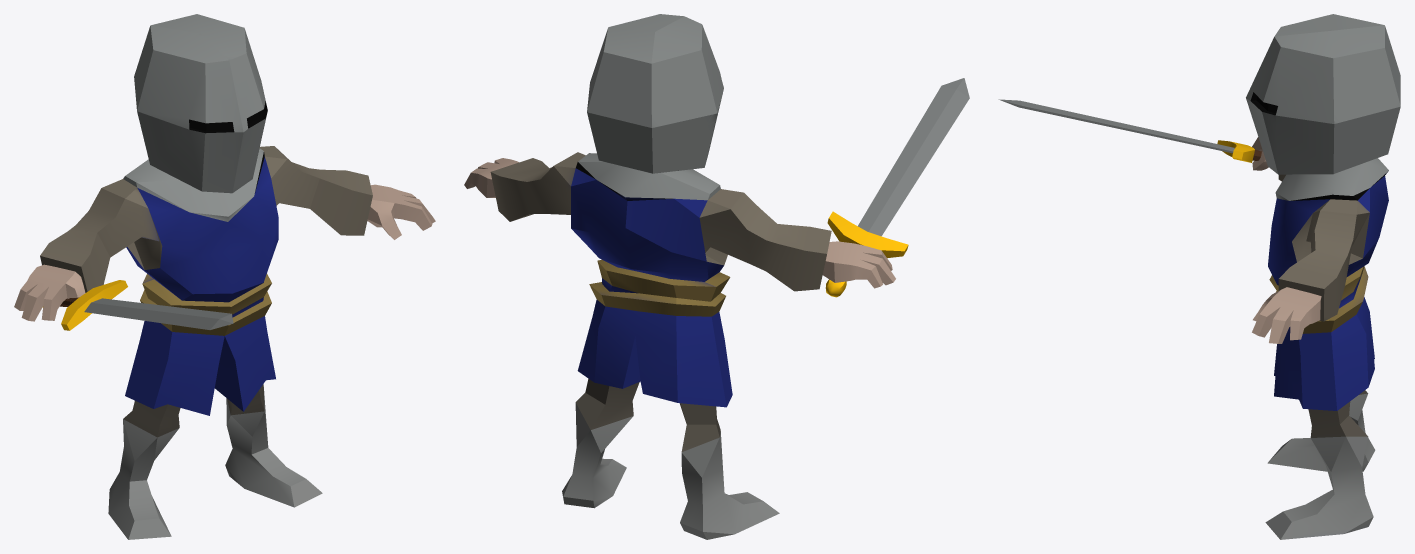
File: nk -rig.fbx
The picture shows the model from 3 angles, left to right: view 1: azimuth 30°, elevation 25°; view 2: azimuth 150°, elevation 25°; view 3: azimuth 270°, elevation 25°; orthographic projection. The views are drawn at different scales.
Parts seen in each view (by area): view 1: knight, Cube; view 2: knight, Cube; view 3: knight, Cube.
Part boxes in pixels (x1,y1,x2,y2): knight: (14, 14, 435, 539); Cube: (42, 280, 233, 330); knight: (464, 14, 895, 539); Cube: (825, 78, 969, 297); knight: (1246, 14, 1400, 539); Cube: (998, 99, 1261, 162).
Size of the model in its own units: 150 by 162 by 128.
4 materials, 1 textured.
